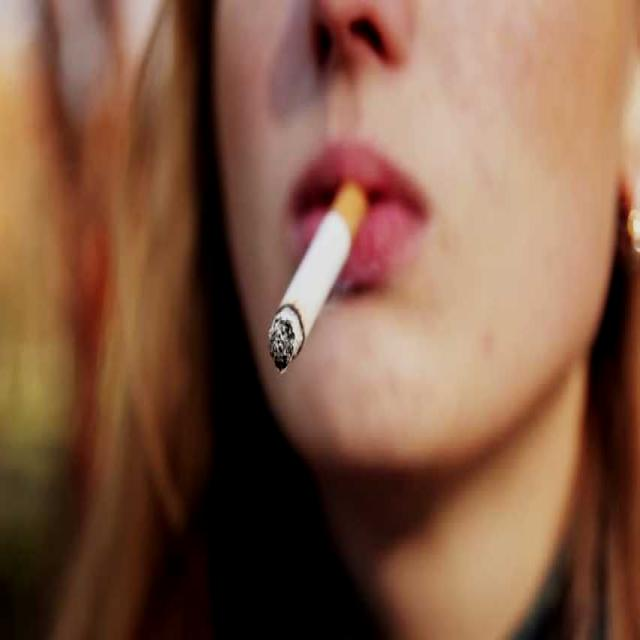Smooking: (255, 195, 372, 402)
